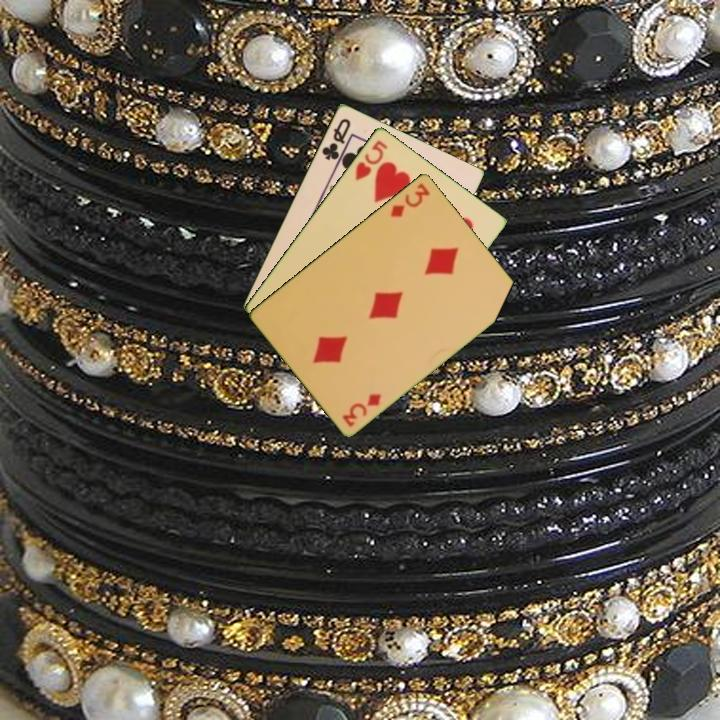3d: (386, 179, 433, 220), (338, 389, 384, 429)
5h: (351, 136, 390, 183)
Qc: (318, 114, 354, 163)
